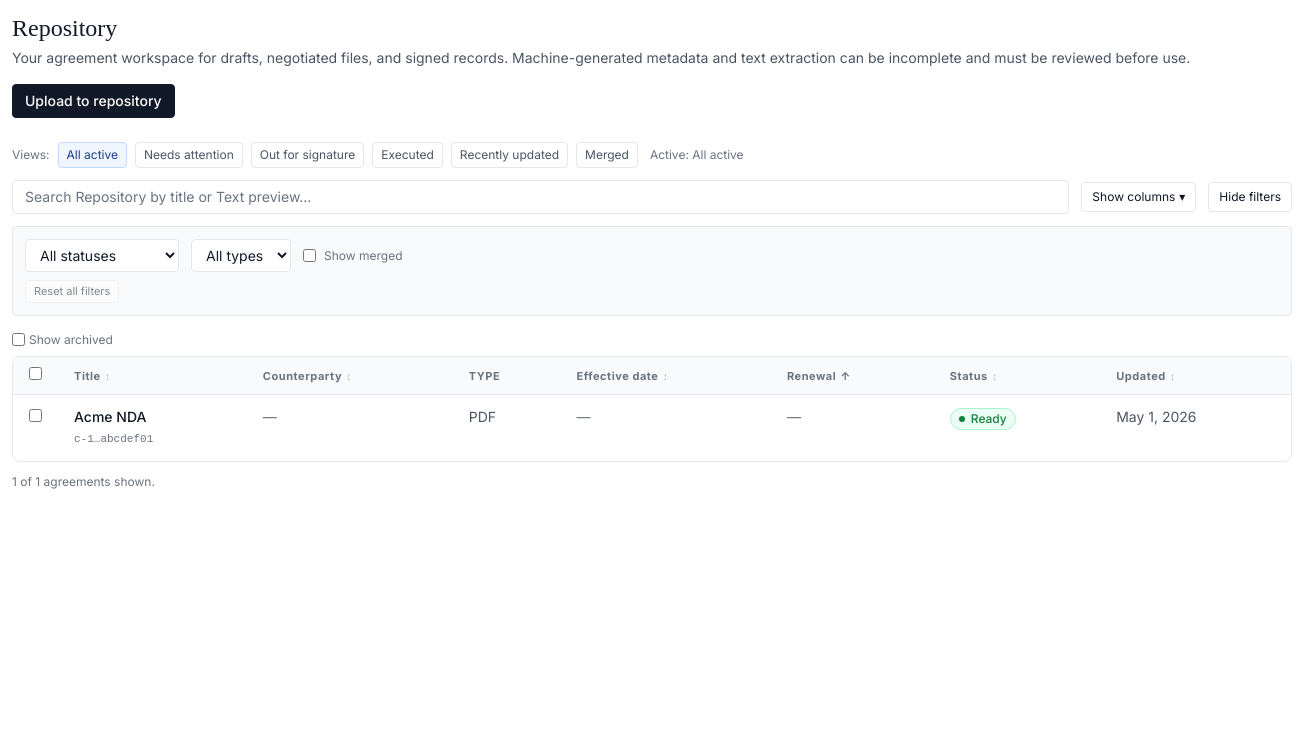
Test: ContractsPage (Repository list) › selecting Out for signature applies sent_for_signature filter
Click the button with test id "repository-view-out_for_signature".
click(308, 155)  # box [251,142,364,168]
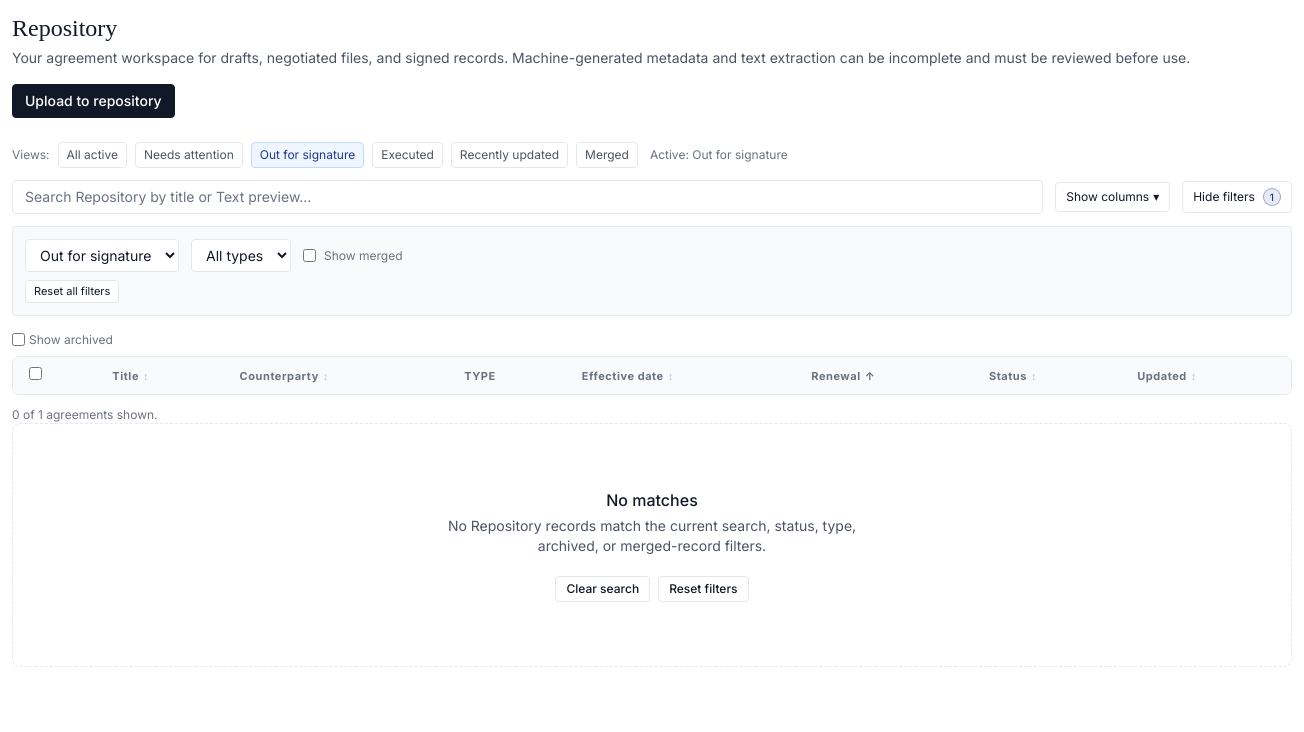
Result: the dropdown with test id "repository-filter-status" shows "Out for signature" at [25,239,179,272]
Result: the text with test id "repository-view-active-label" reads "Active: Out for signature" at [650,147,788,162]
